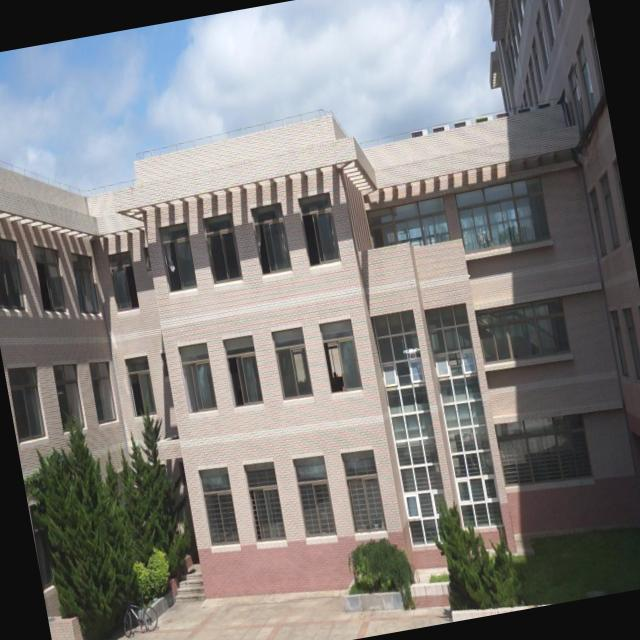drone: (402, 340, 421, 362)
